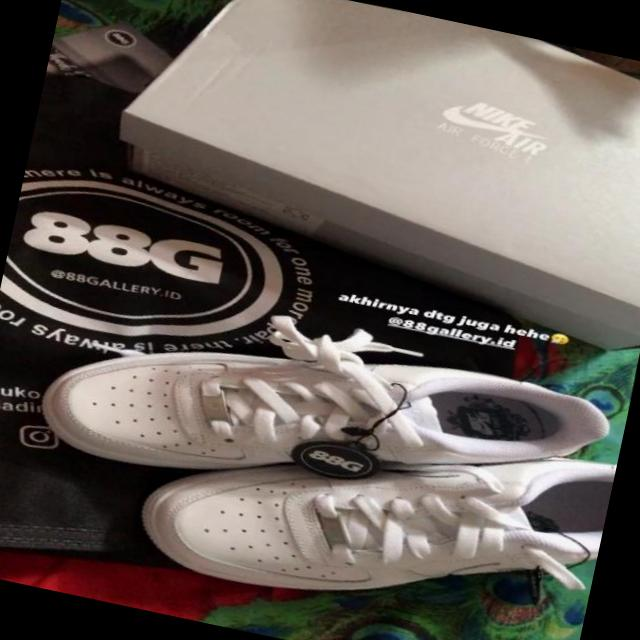nike_original_airforce: (28, 280, 630, 562), (129, 369, 616, 640)
